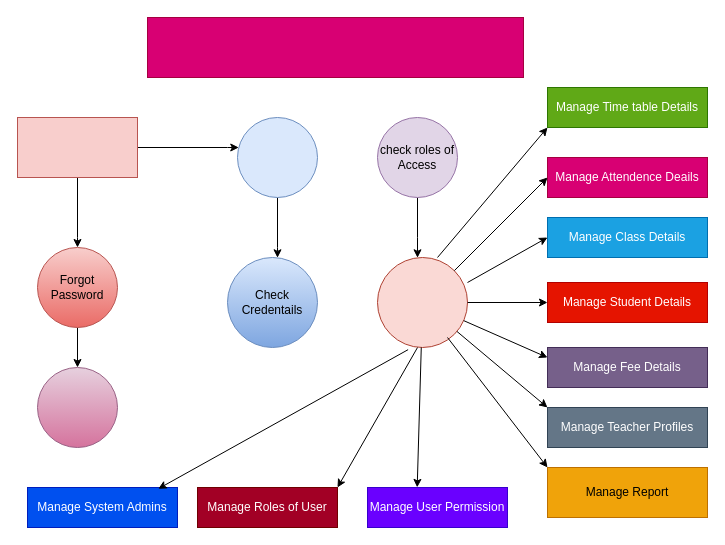
The diagram is 725 pixels wide and 545 high, and some of its shapes have lost their labels. Each missing label, with the centre of its shape:
Admin: [77,147]
Login to system: [277,157]
Manage Modules: [422,302]
Send Email User: [77,407]
Student Information System: [335,47]
